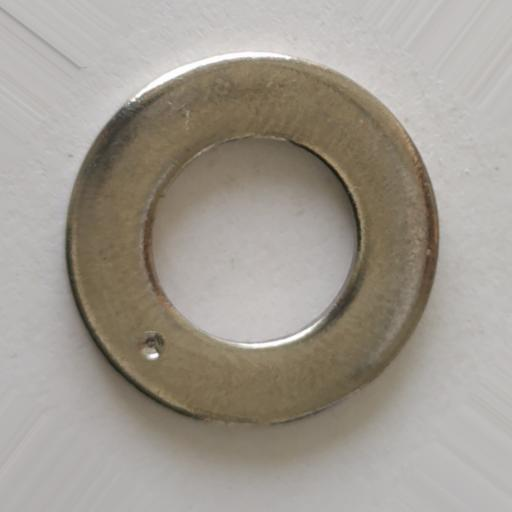circular_cavity: (139, 332, 165, 359)
